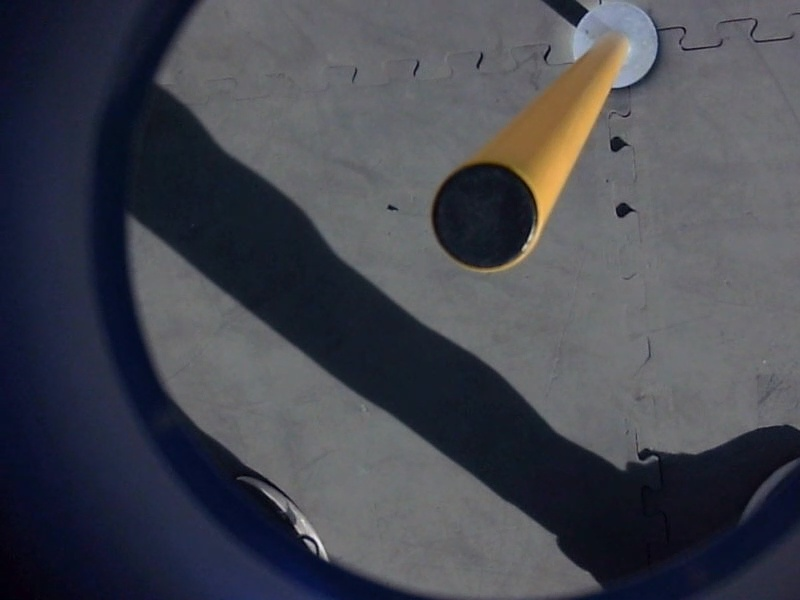tip: (425, 155, 549, 280)
